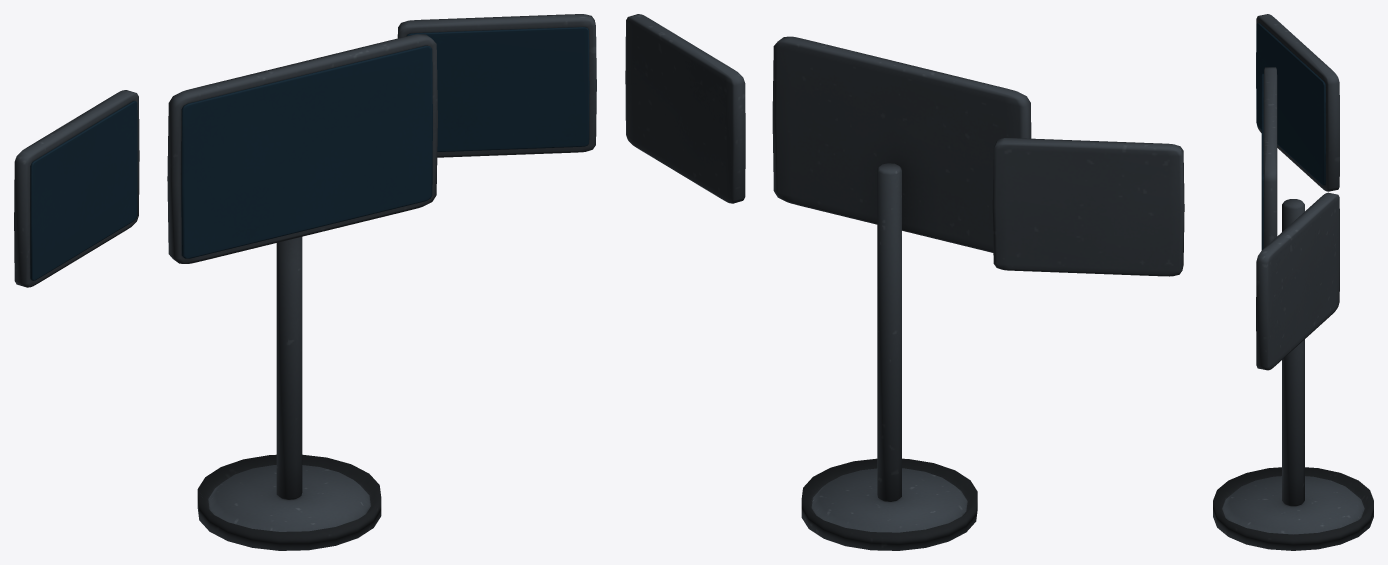
File: Pantallas_Taller.fbx
3 renders of one model, left to right at view 1: azimuth 30°, elevation 25°; view 2: azimuth 150°, elevation 25°; view 3: azimuth 270°, elevation 25°, orthographic. The views are drawn at different scales.
Parts seen in each view (by area): view 1: Malla; view 2: Malla; view 3: Malla.
Part boxes in pixels (x1,y1,x2,y2): Malla: (14,14,596,550); Malla: (625,14,1184,550); Malla: (1213,14,1373,550).
Bounding box in the file's own units: 2.55 × 1.92 × 0.6999.
Materials: 1 (1 with a texture image).
